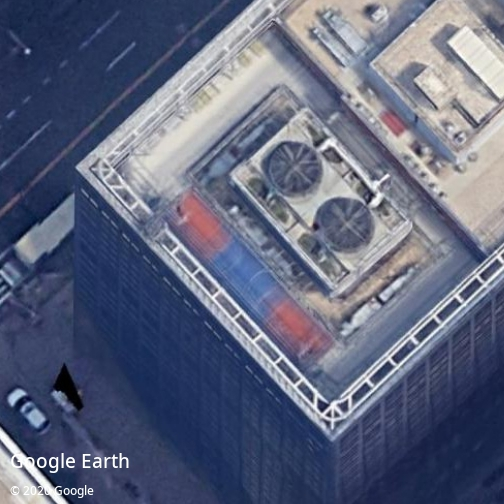Vent: (268, 142, 323, 196), (320, 198, 373, 253)
